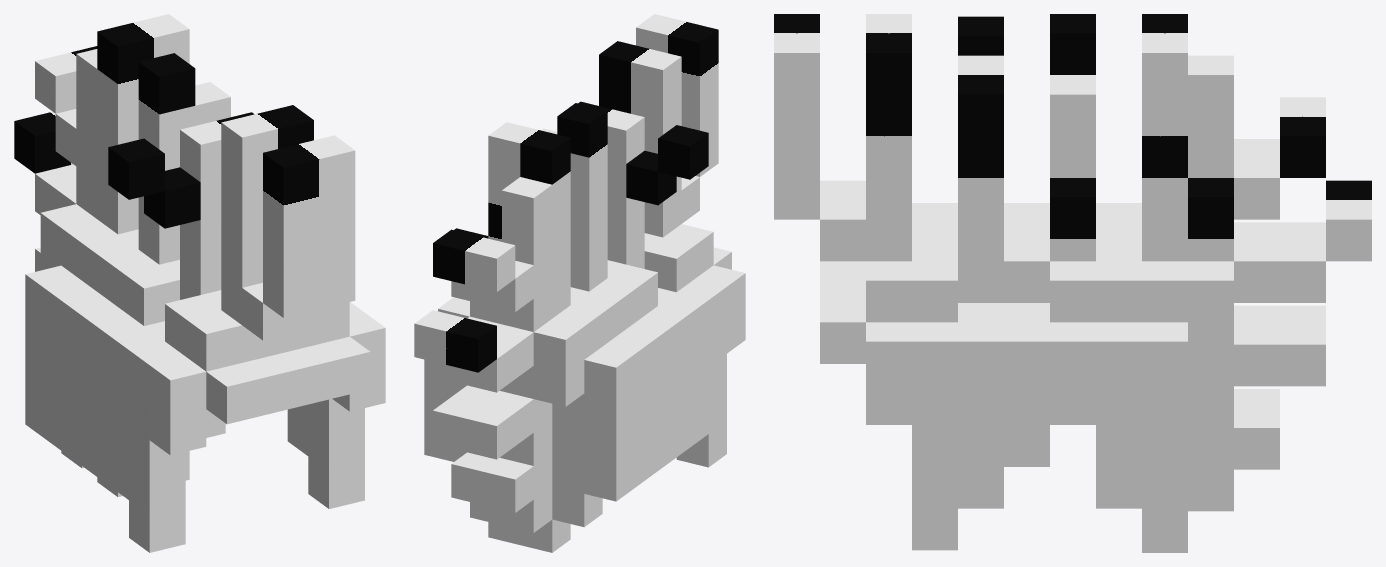
The model's file is wlos5.dae.
3 views of the same model, side by side, from view 1: azimuth 30°, elevation 25°; view 2: azimuth 150°, elevation 25°; view 3: azimuth 270°, elevation 25° (orthographic). The views are drawn at different scales.
Parts seen in each view (by area): view 1: Content; view 2: Content; view 3: Content.
Part boxes in pixels (box(x1,y1,x2,y2)): Content: box(14, 14, 385, 552); Content: box(414, 14, 745, 552); Content: box(774, 14, 1371, 552).
Size of the model in its own units: 6 by 12 by 13.
Materials: 1 (1 with a texture image).
